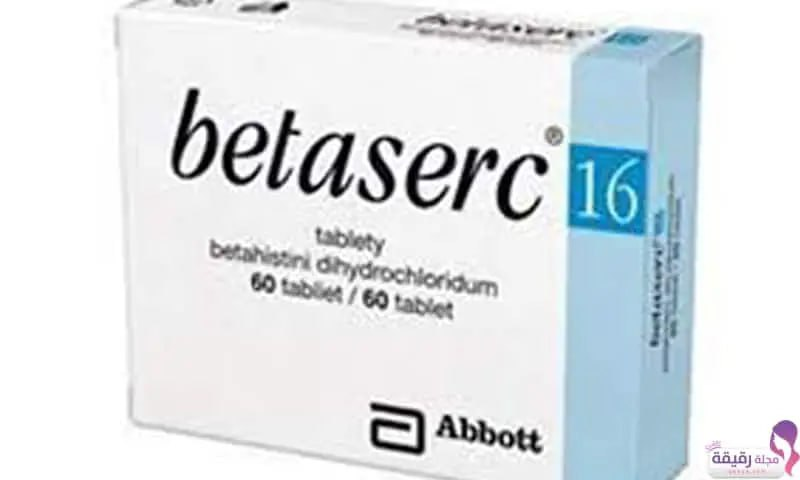Medicine: (108, 2, 708, 479)
